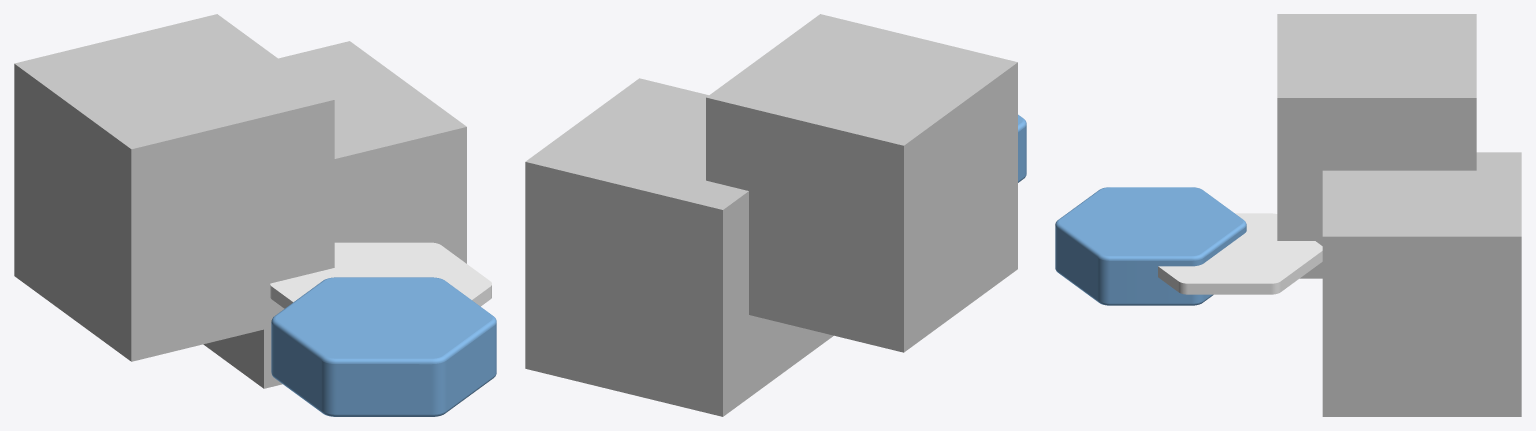
The picture shows the model from 3 angles, left to right: view 1: azimuth 30°, elevation 25°; view 2: azimuth 150°, elevation 25°; view 3: azimuth 270°, elevation 25°; orthographic projection. The views are drawn at different scales.
Visible parts, largest first — view 1: Cube, Curve.006, Cube.001, Curve; view 2: Cube, Cube.001, Curve.006; view 3: Cube.001, Cube, Curve.006, Curve.
Part boxes in pixels (x1,y1,x2,y2): Cube: [14, 14, 334, 361]; Curve.006: [271, 277, 496, 416]; Cube.001: [203, 41, 466, 388]; Curve: [270, 242, 491, 308]; Cube: [706, 14, 1017, 352]; Cube.001: [525, 78, 833, 416]; Curve.006: [1018, 114, 1026, 182]; Cube.001: [1322, 152, 1521, 416]; Cube: [1277, 14, 1476, 278]; Curve.006: [1055, 187, 1246, 305]; Curve: [1158, 213, 1322, 294].
Bounding box in the file's own units: 3.57 × 2.8 × 4.69.
